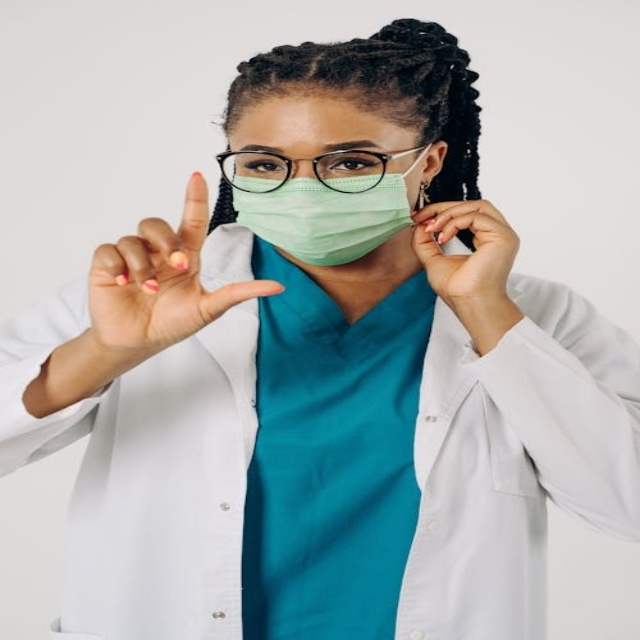Gafas: (214, 141, 432, 192)
Mascara: (229, 147, 428, 265)
Sin_guantes: (85, 168, 286, 358), (410, 193, 529, 312)
